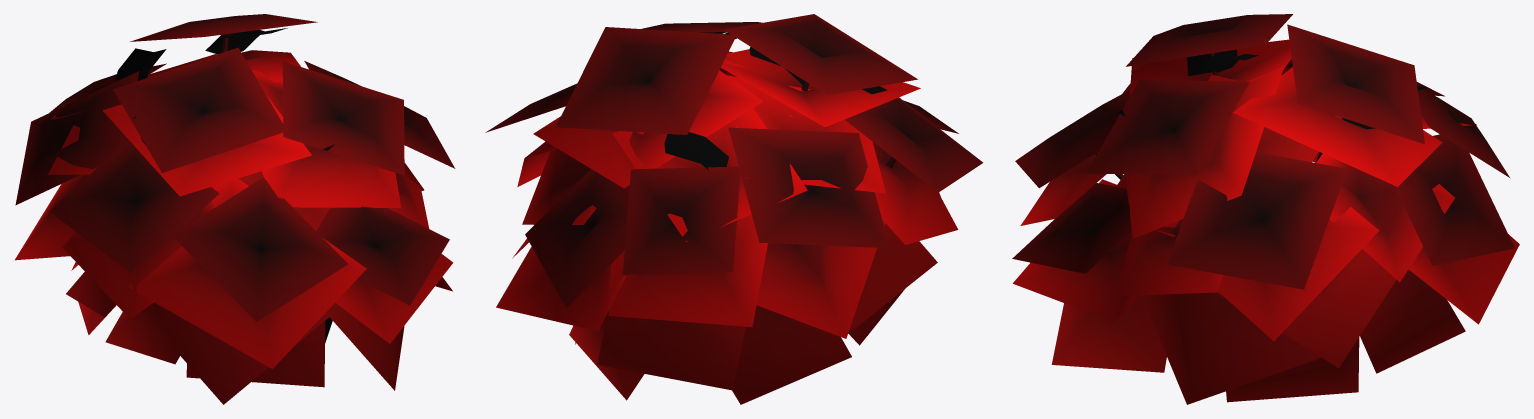
Rendered from G_SaFlower_001_S1.fbx.
3 views of the same model, side by side, from view 1: azimuth 30°, elevation 25°; view 2: azimuth 150°, elevation 25°; view 3: azimuth 270°, elevation 25° (orthographic). The views are drawn at different scales.
Parts seen in each view (by area): view 1: S_M_Plant_SaFlower001_1x1x1_LOD0; view 2: S_M_Plant_SaFlower001_1x1x1_LOD0; view 3: S_M_Plant_SaFlower001_1x1x1_LOD0.
Part boxes in pixels (bbox=[...]): S_M_Plant_SaFlower001_1x1x1_LOD0: bbox=[15, 14, 455, 404]; S_M_Plant_SaFlower001_1x1x1_LOD0: bbox=[485, 14, 983, 404]; S_M_Plant_SaFlower001_1x1x1_LOD0: bbox=[1012, 14, 1519, 404].
Bounding box in the file's own units: 137 × 96.41 × 144.
